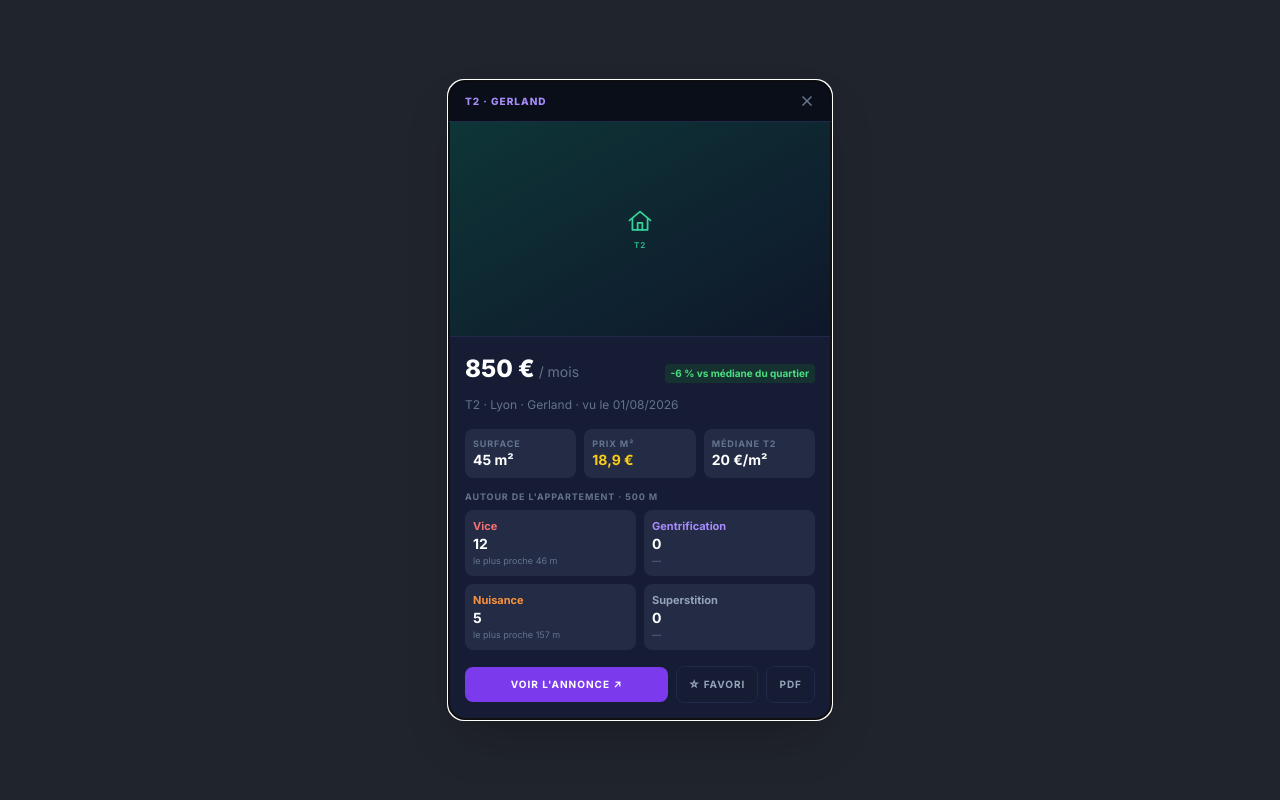
Test: AnnonceDetailModal › favori et export PDF (ORA-174) › toggles the favorite state from the modal
The image size is (1280, 800).
Expected: the text "850 €" is shown, left=465, top=353, right=535, bottom=385
Step 1. Click the button with aria-label "ajouter aux favoris" → (717,684), box left=676, top=666, right=758, bottom=703
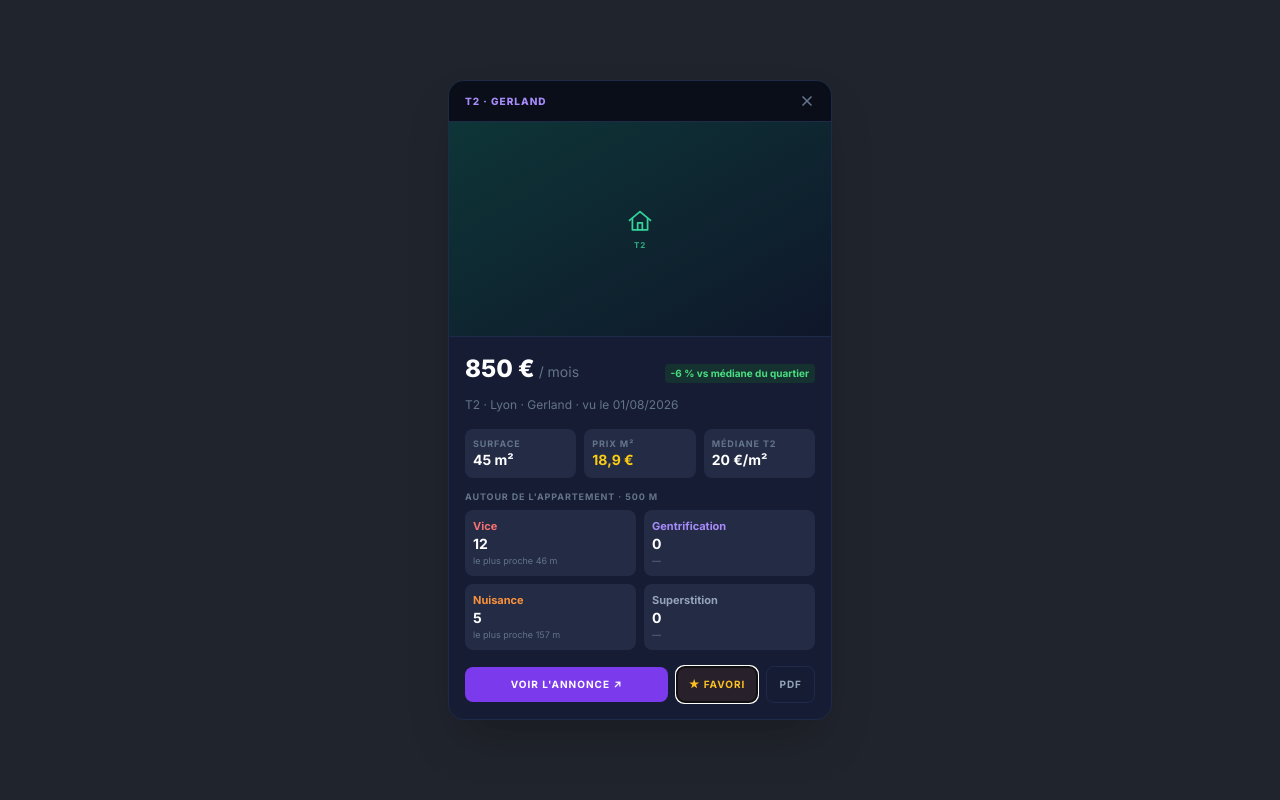
Expected: the button with aria-label "retirer des favoris" is shown, left=676, top=666, right=758, bottom=703
